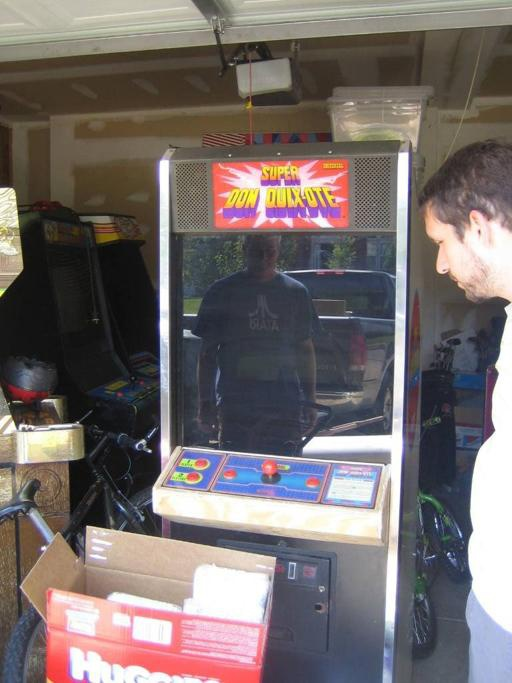non-vehicle: (1, 408, 162, 683), (411, 472, 468, 655)
